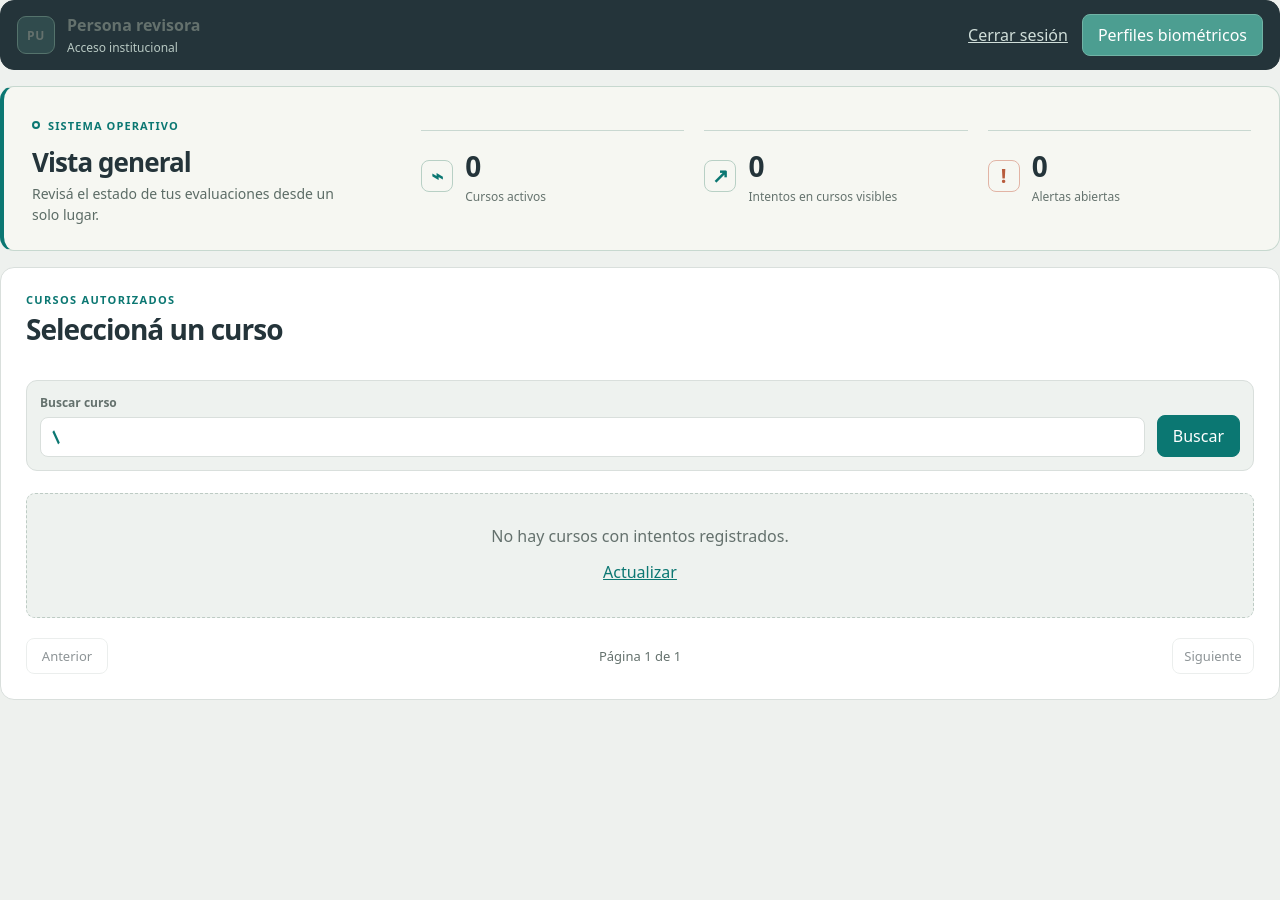
Test: uses an app-owned dialog before revoking a biometric profile
The image size is (1280, 900).
What coordinates should you click on to do the following:
click the button "Perfiles biométricos"
I would click on:
 (1172, 35)
Its box is [1082,14,1263,56].
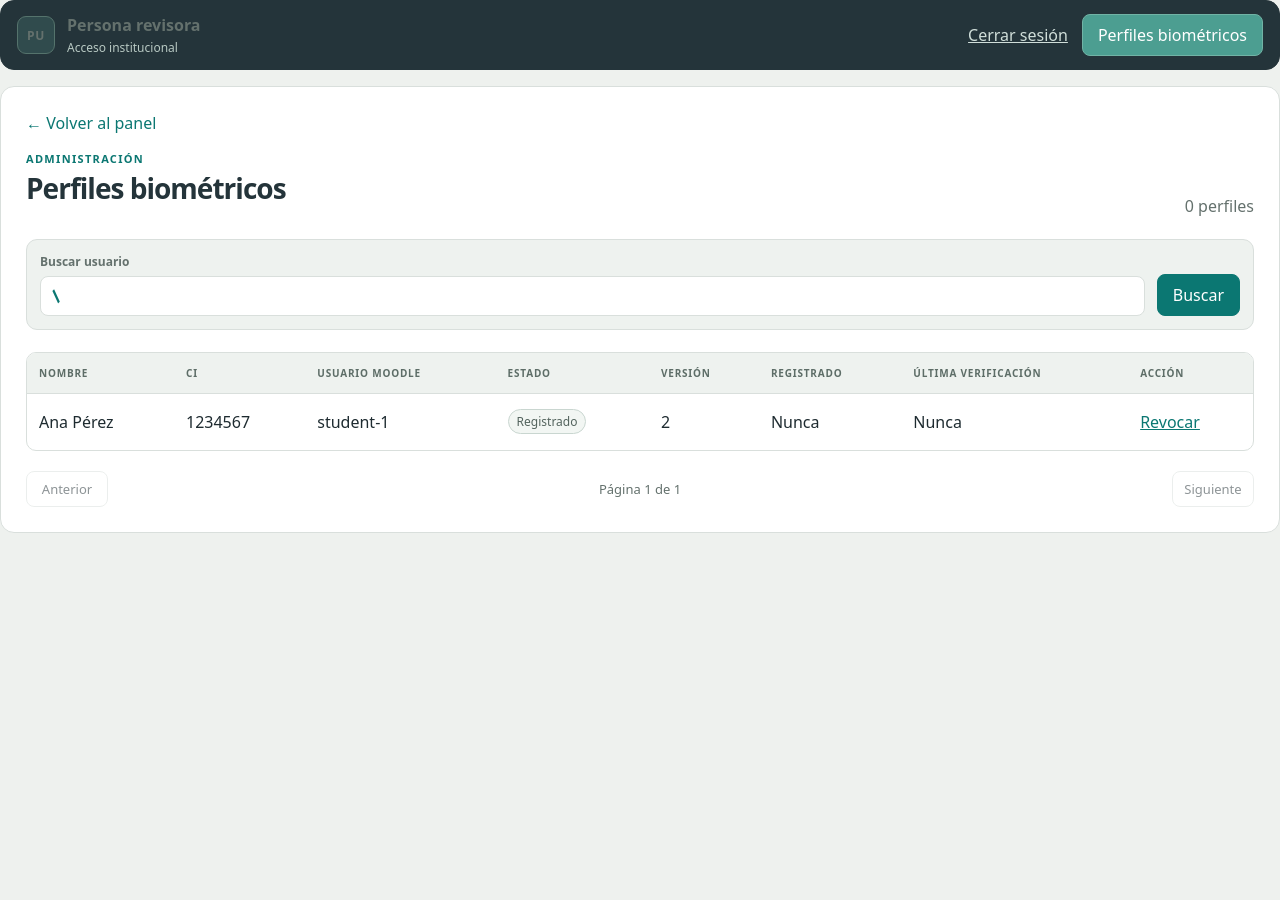
What coordinates should you click on to do the following:
click the button "Revocar"
I would click on:
 (1170, 422)
Its box is [1140,406,1200,436].
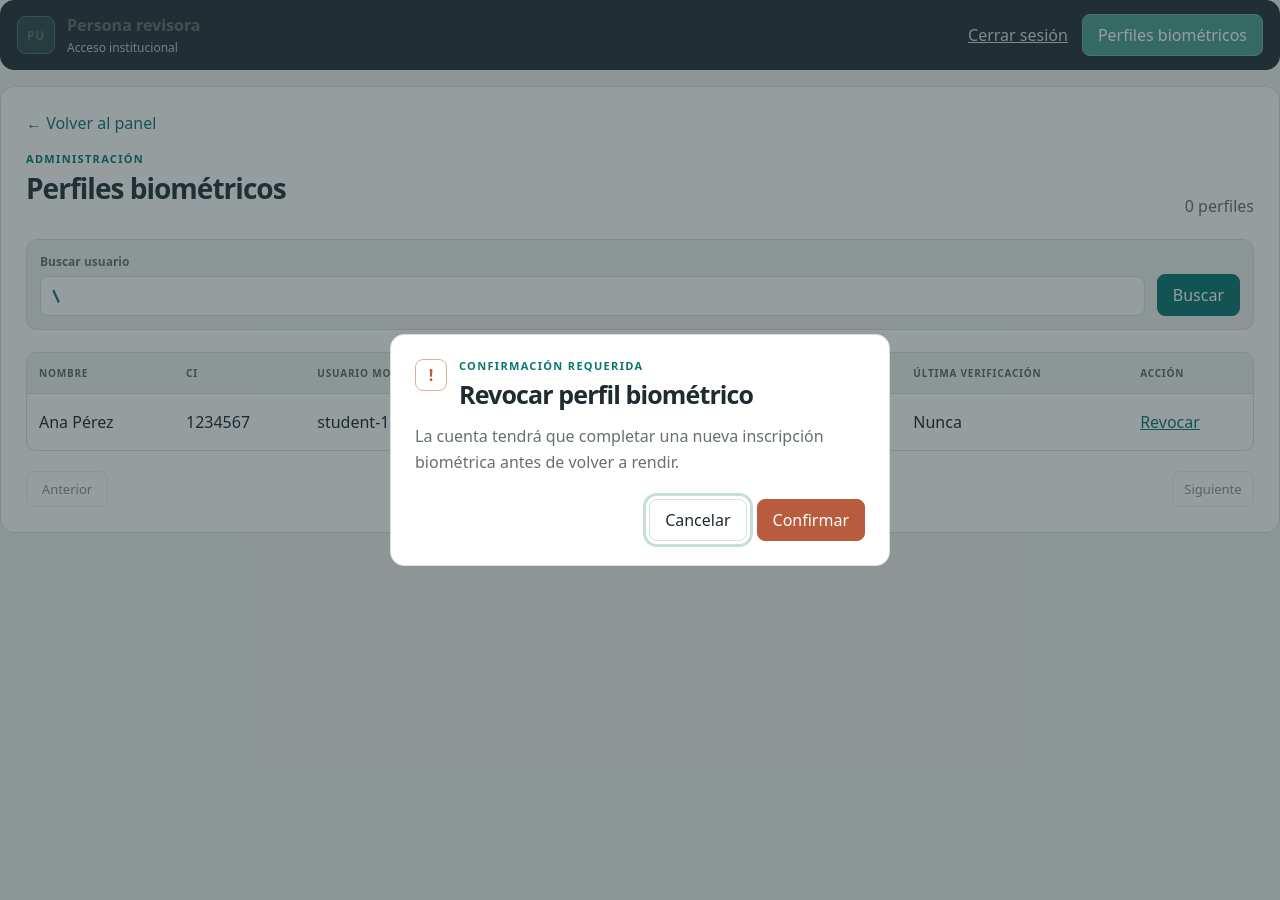
Check: the text "Ana Pérez" is shown, box [27,393,174,450]
Check: the dialog "Revocar perfil biométrico" is shown, box [390,334,890,566]
